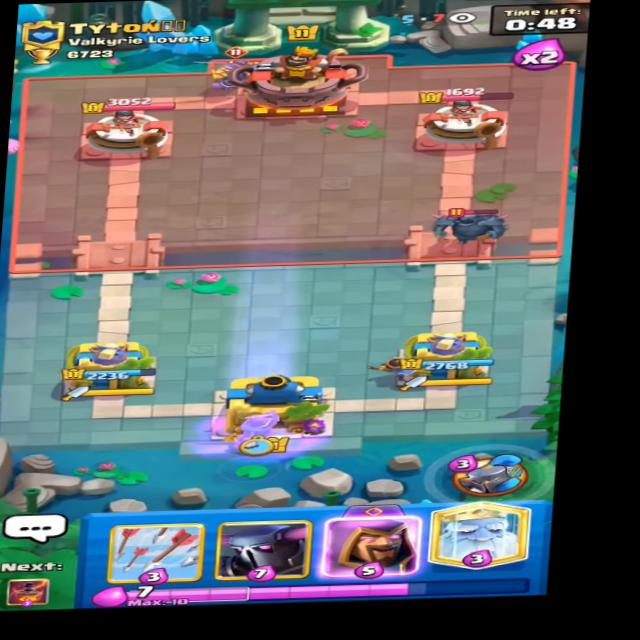evo-knight: (197, 46, 275, 94)
pekka: (431, 194, 518, 247)
